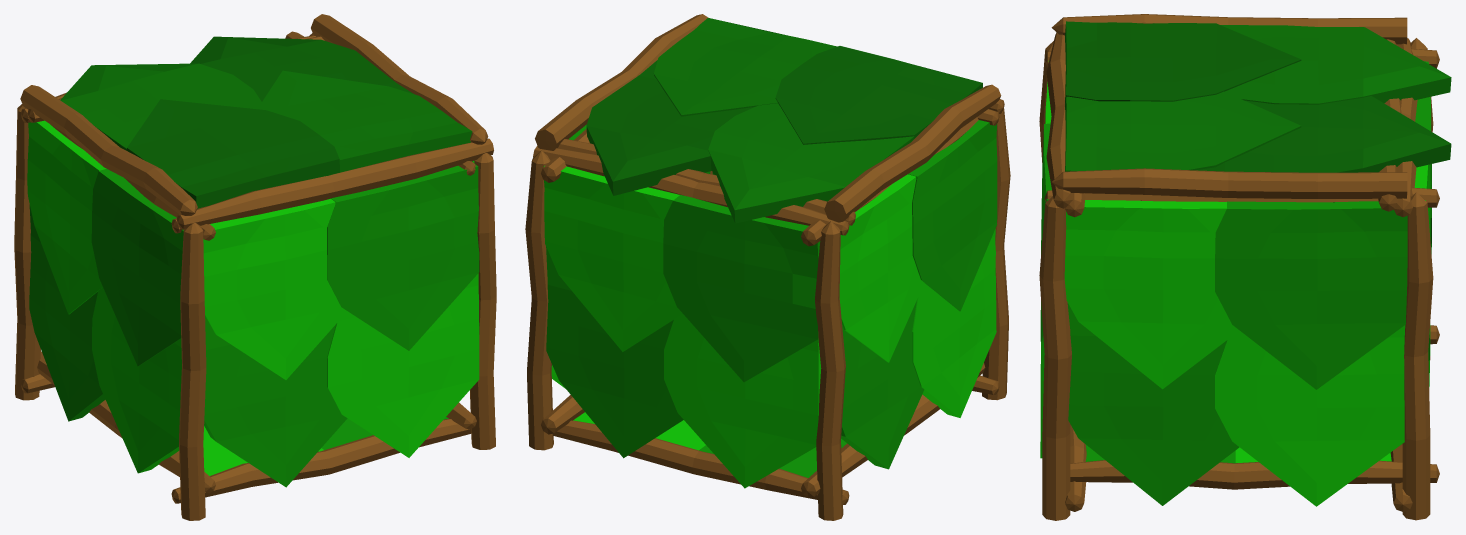
The model's file is Chest.fbx.
3 renders of one model, left to right at view 1: azimuth 30°, elevation 25°; view 2: azimuth 150°, elevation 25°; view 3: azimuth 270°, elevation 25°, orthographic. The views are drawn at different scales.
Parts seen in each view (by area): view 1: Torus.019, Torus.020; view 2: Torus.019, Torus.020; view 3: Torus.019, Torus.020.
Part boxes in pixels (left/top/right/bottom): Torus.019: left=14, top=31, right=496, bottom=520; Torus.020: left=20, top=14, right=493, bottom=228; Torus.019: left=525, top=109, right=1010, bottom=520; Torus.020: left=535, top=14, right=1004, bottom=225; Torus.019: left=1039, top=38, right=1439, bottom=520; Torus.020: left=1046, top=14, right=1451, bottom=211.
Bounding box in the file's own units: 400 × 413 × 383.
